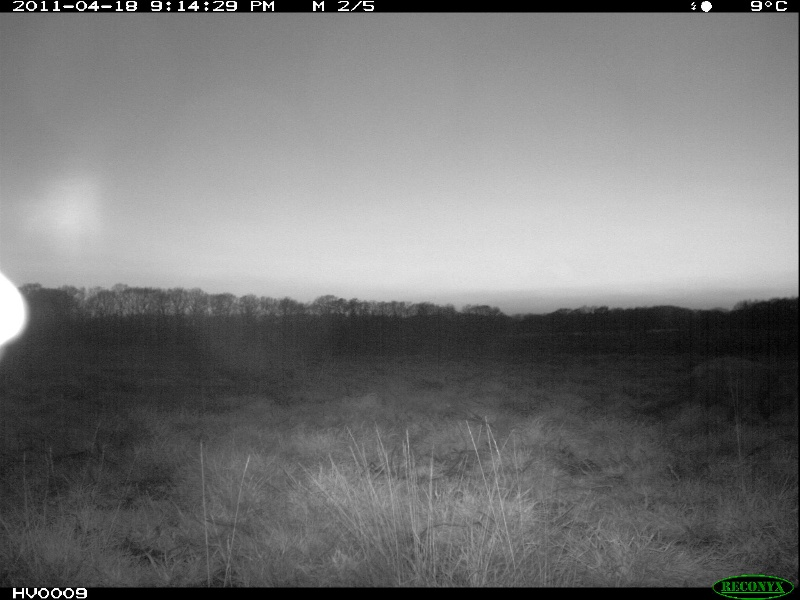fox: (642, 355, 782, 424)
